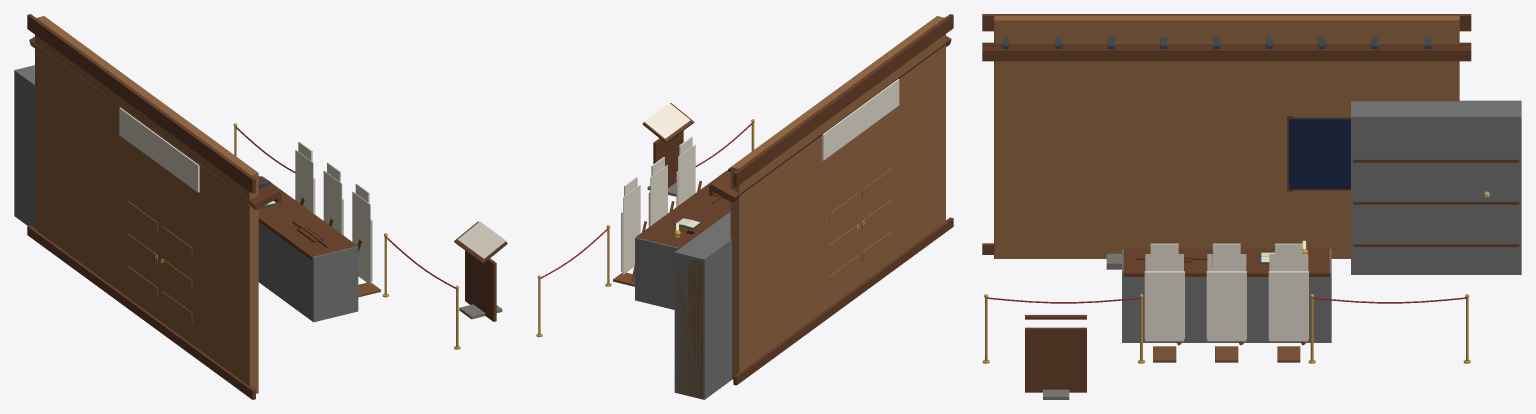
Rendered from S2_shop.glb.
3 renders of one model, left to right at view 1: azimuth 30°, elevation 25°; view 2: azimuth 150°, elevation 25°; view 3: azimuth 270°, elevation 25°, orthographic. The views are drawn at different scales.
Visible parts, largest first — view 1: shop_front, COL_counter, COL_shelf, INT_counter, SIGN_shopName, label_stand_SIGN_label_shop, SIGN_customer_01, SIGN_customer_02, SIGN_customer_03, SIGN_label_shop, standee_1; view 2: shop_front, COL_shelf, shelf_shop, INT_counter, COL_counter, SIGN_shopName, label_stand_SIGN_label_shop, SIGN_customer_03, SIGN_customer_01, SIGN_customer_02, SIGN_label_shop, standee_3; view 3: shop_front, COL_shelf, COL_counter, label_stand_SIGN_label_shop, standee_2, standee_1, standee_3, INT_counter, shelf_shop.
Part boxes in pixels (box(x1,y1,x2,y2)): shop_front: box(27, 14, 281, 399); COL_counter: box(258, 176, 358, 322); COL_shelf: box(14, 65, 34, 227); INT_counter: box(258, 176, 357, 260); SIGN_shopName: box(119, 107, 199, 192); label_stand_SIGN_label_shop: box(454, 221, 507, 321); SIGN_customer_01: box(352, 191, 370, 284); SIGN_customer_02: box(323, 170, 342, 234); SIGN_customer_03: box(295, 149, 313, 213); SIGN_label_shop: box(458, 221, 505, 258); standee_1: box(355, 183, 380, 297); shop_front: box(709, 14, 953, 385); COL_shelf: box(674, 211, 731, 399); shelf_shop: box(676, 257, 702, 398); INT_counter: box(635, 170, 730, 248); COL_counter: box(635, 170, 727, 309); SIGN_shopName: box(822, 79, 899, 160); label_stand_SIGN_label_shop: box(642, 103, 693, 196); SIGN_customer_03: box(623, 185, 640, 274); SIGN_customer_01: box(678, 144, 695, 205); SIGN_customer_02: box(650, 165, 667, 225); SIGN_label_shop: box(644, 103, 690, 138); standee_3: box(613, 177, 646, 286); shop_front: box(982, 14, 1471, 269); COL_shelf: box(1351, 100, 1521, 274); COL_counter: box(1122, 249, 1331, 342); label_stand_SIGN_label_shop: box(1025, 315, 1086, 399); standee_2: box(1206, 243, 1246, 362); standee_1: box(1144, 243, 1184, 362); standee_3: box(1268, 243, 1308, 362); INT_counter: box(1123, 248, 1329, 276); shelf_shop: box(1353, 159, 1519, 246).
Size of the model in its own units: 4.48 by 3.41 by 6.95.
